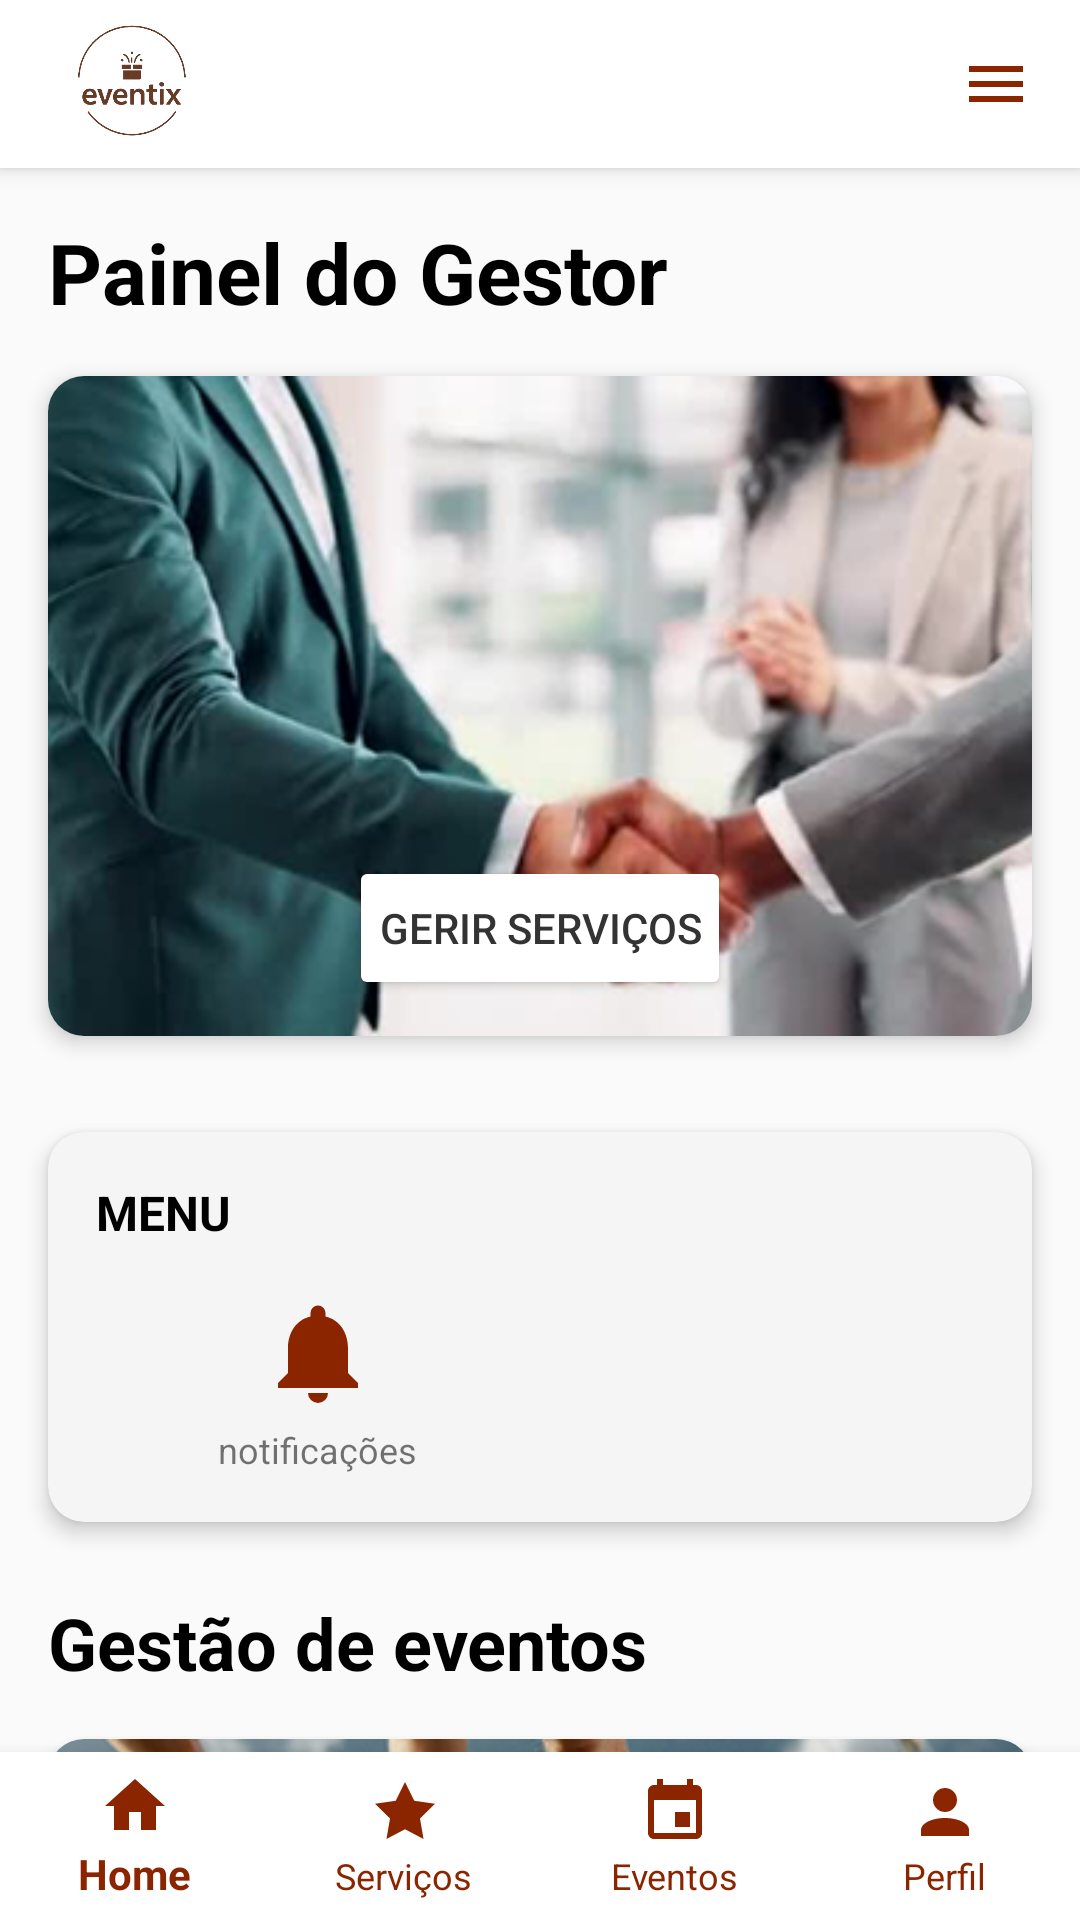

Named icons in this screenshot (1080*1920) and their bounding boxes, [x1, y1, x2, y2]:
Menu: [969, 66, 1023, 102]
